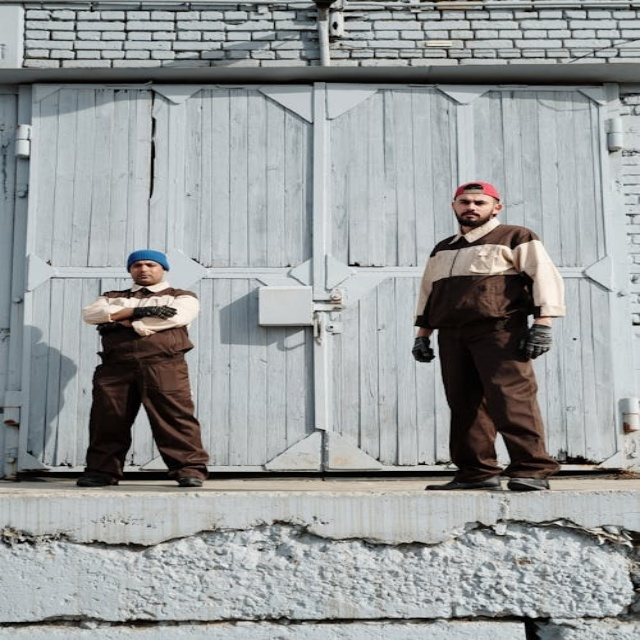Guantes: (518, 324, 553, 359), (411, 336, 435, 363), (132, 305, 176, 319), (97, 321, 125, 335)
Sin_gafas: (455, 199, 495, 206), (131, 261, 155, 271)
Sin_mascara: (457, 209, 480, 223), (134, 271, 151, 281)
